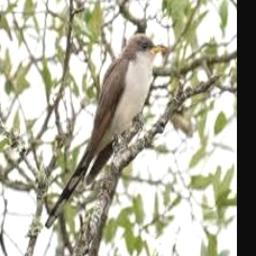Cuckoo: (44, 33, 163, 232)
